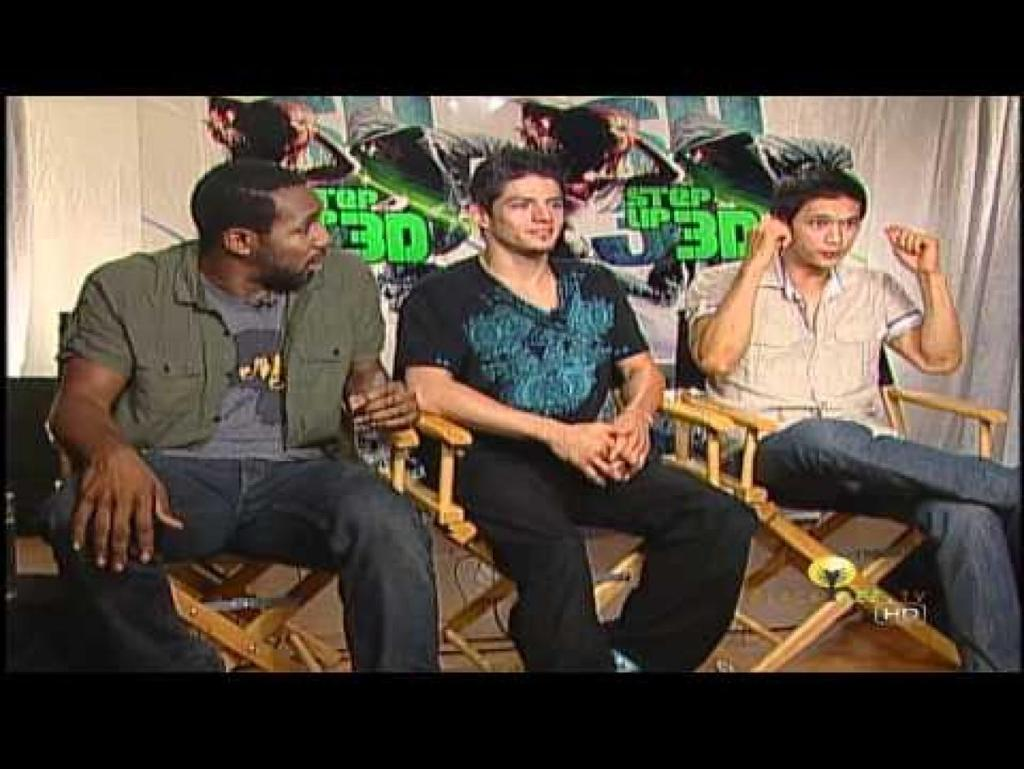face: (270, 184, 332, 286), (496, 172, 566, 254), (792, 198, 860, 264)
